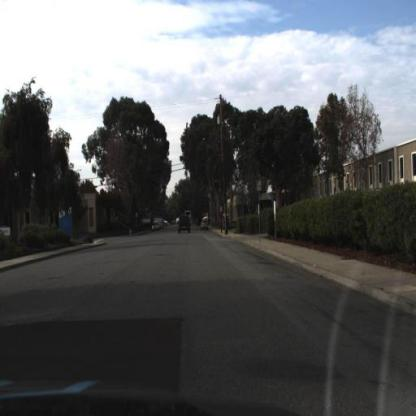car: (177, 213, 193, 236)
